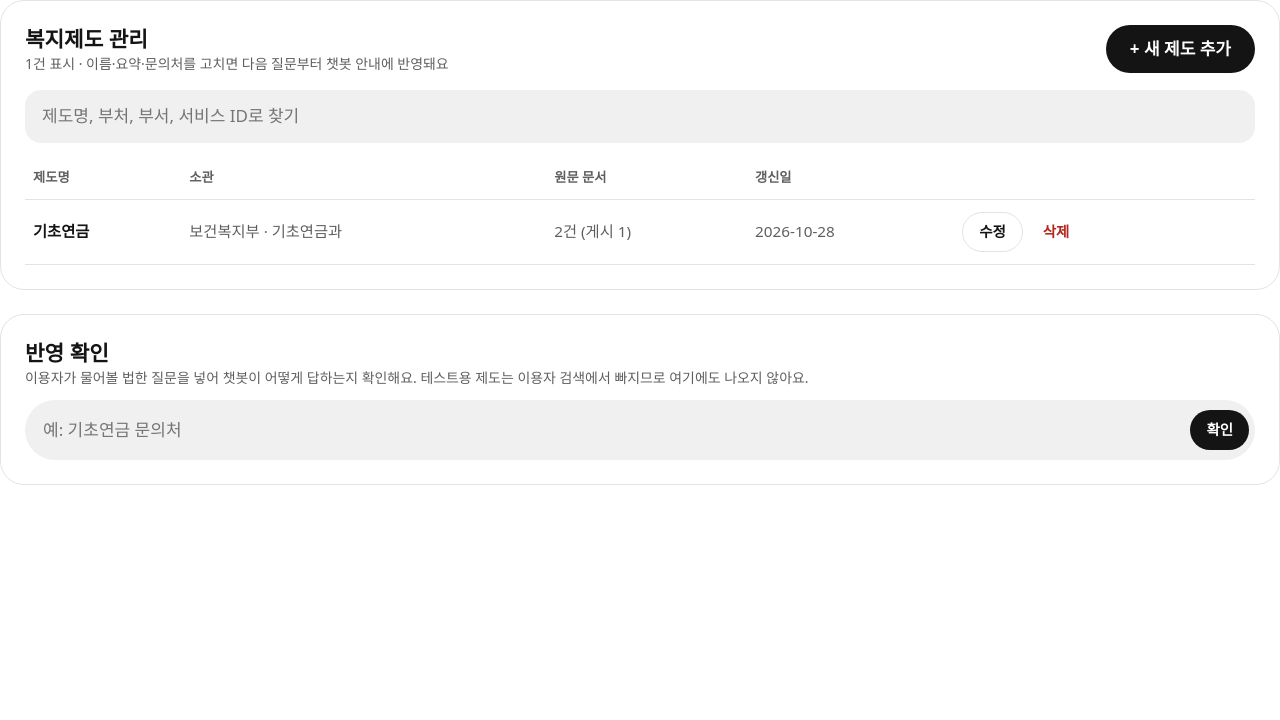
Test: 제도 관리와 원문 문서 › 수정하면 바뀐 항목만 보낸다
The width and height of the screenshot is (1280, 720).
Click the button with aria-label "기초연금 수정" at (992, 232), box [962,212,1023,252]
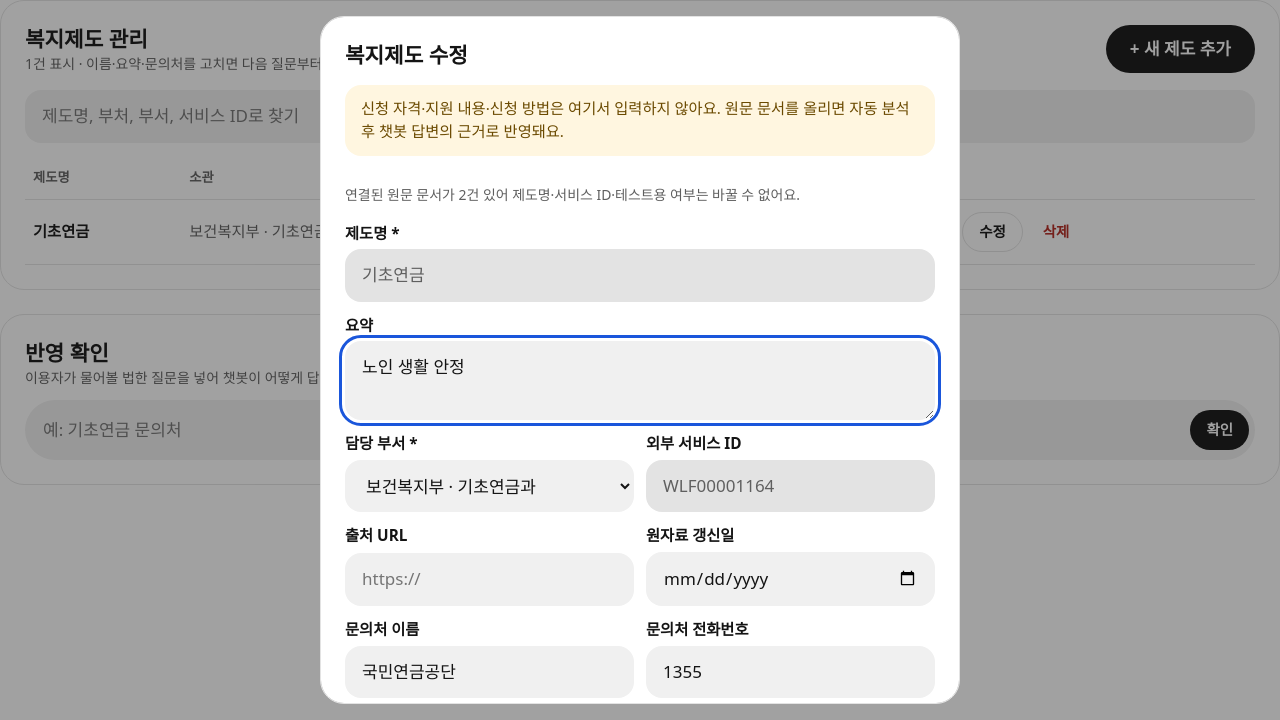
Replace the text in the text box labelled "요약" with "새 요약" at (640, 381), box [345,341,935,420]
(page scrolled)
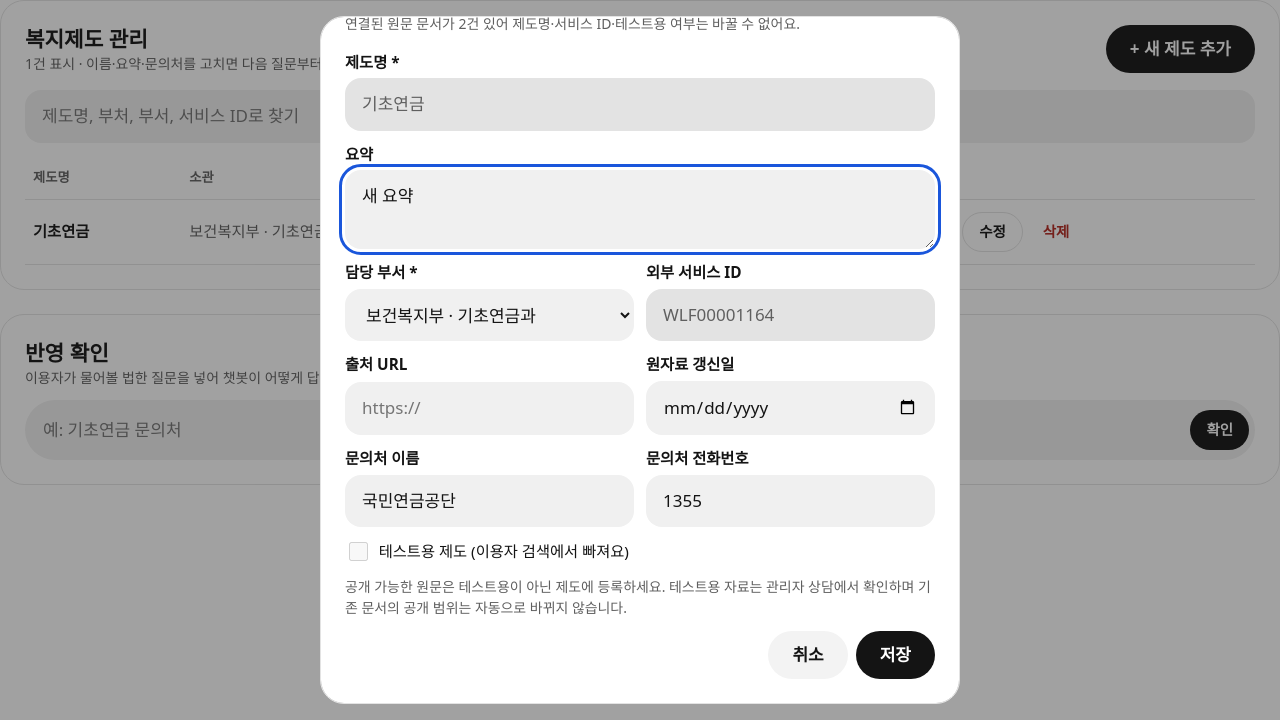
Click the button "저장" at (895, 655), box [856,631,935,679]
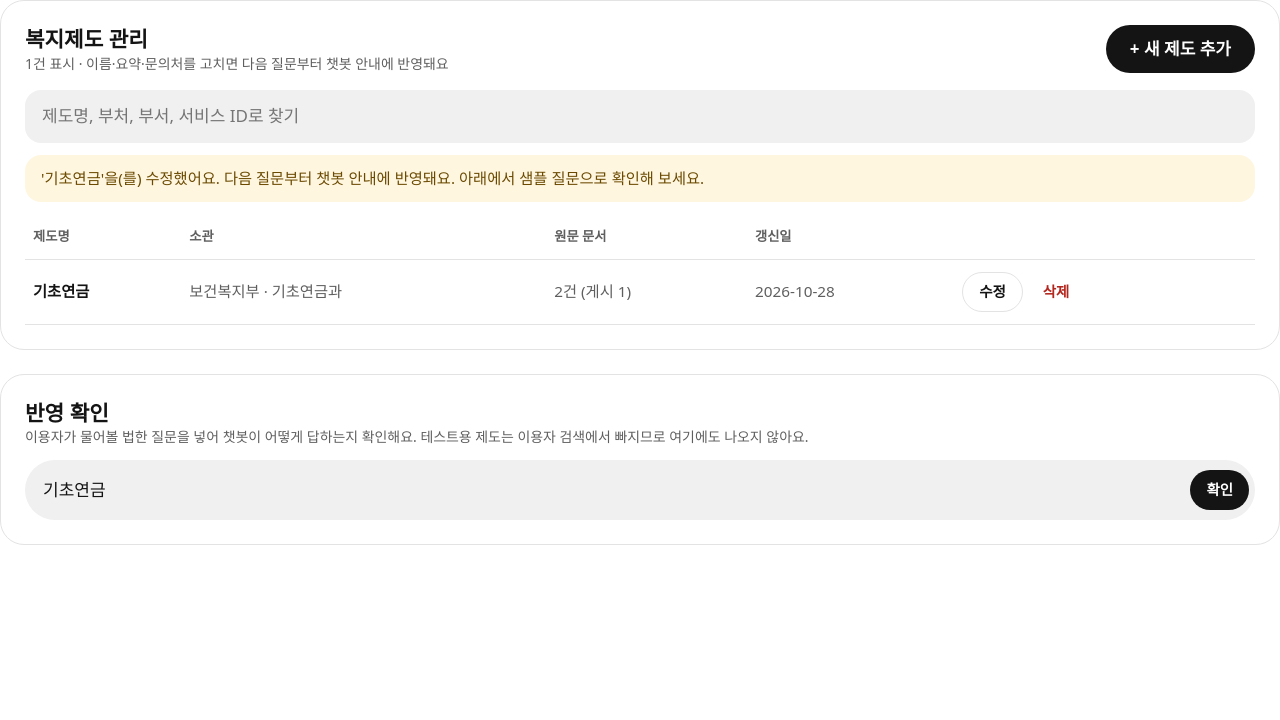
Now the message shows "다음 질문부터", box [41,168,704,188]
